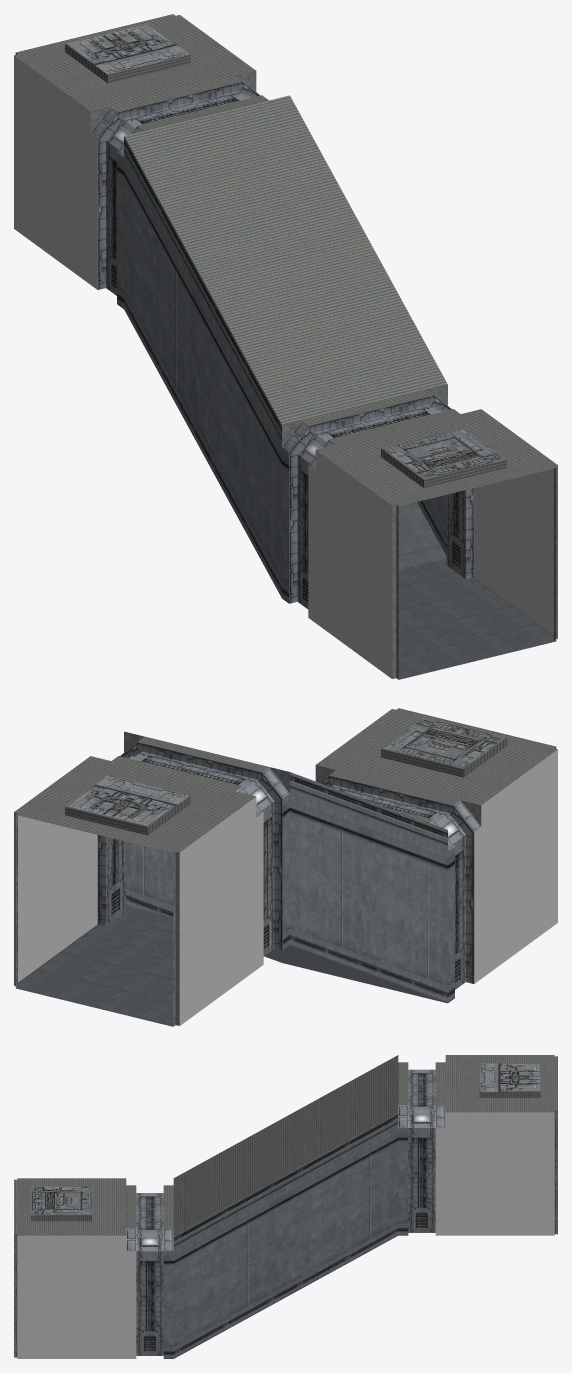
The model's file is poi_all_impl_bunker_small_outpost_s02_r6_hall_mesh.fbx.
3 renders of one model, top to bottom at view 1: azimuth 30°, elevation 25°; view 2: azimuth 150°, elevation 25°; view 3: azimuth 270°, elevation 25°, orthographic. The views are drawn at different scales.
Visible parts, largest first — view 1: mesh_node; view 2: mesh_node; view 3: mesh_node.
Part boxes in pixels (box(x1,y1,x2,y2)): mesh_node: box(14, 14, 557, 679); mesh_node: box(14, 708, 557, 1026); mesh_node: box(14, 1055, 557, 1358).
Bounding box in the file's own units: 4 × 8.2 × 16.
